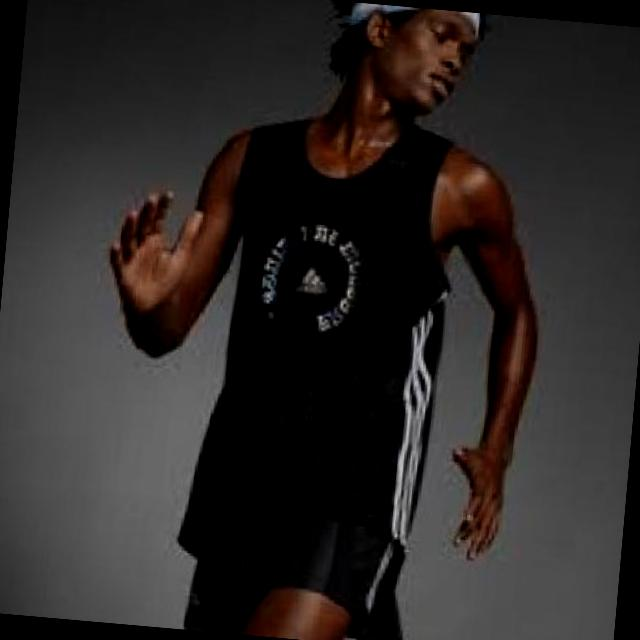no_vest: (174, 106, 463, 569)
